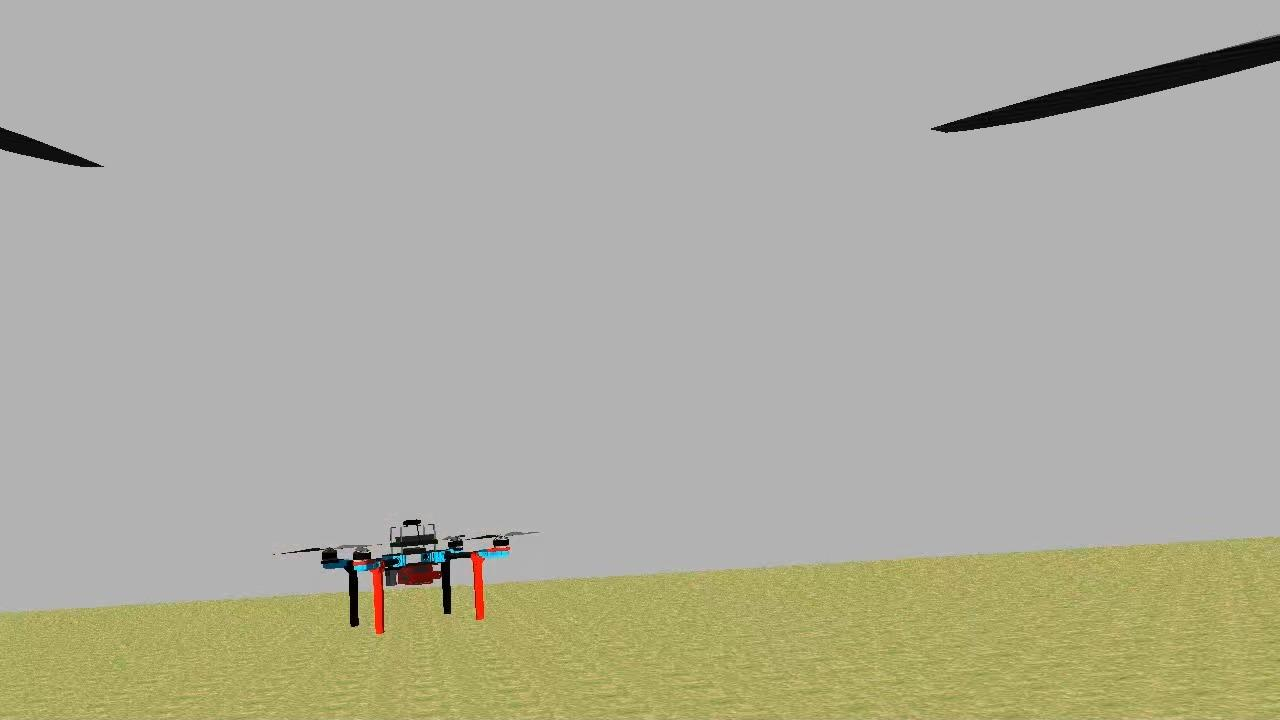UAV: (314, 512, 518, 636)
